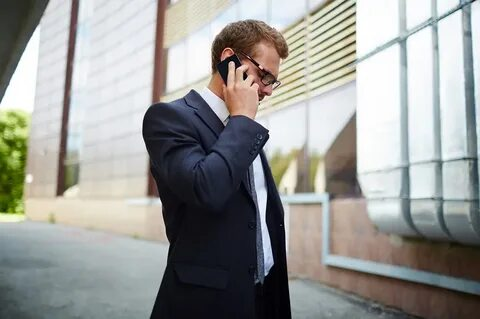awake: (141, 18, 292, 319)
